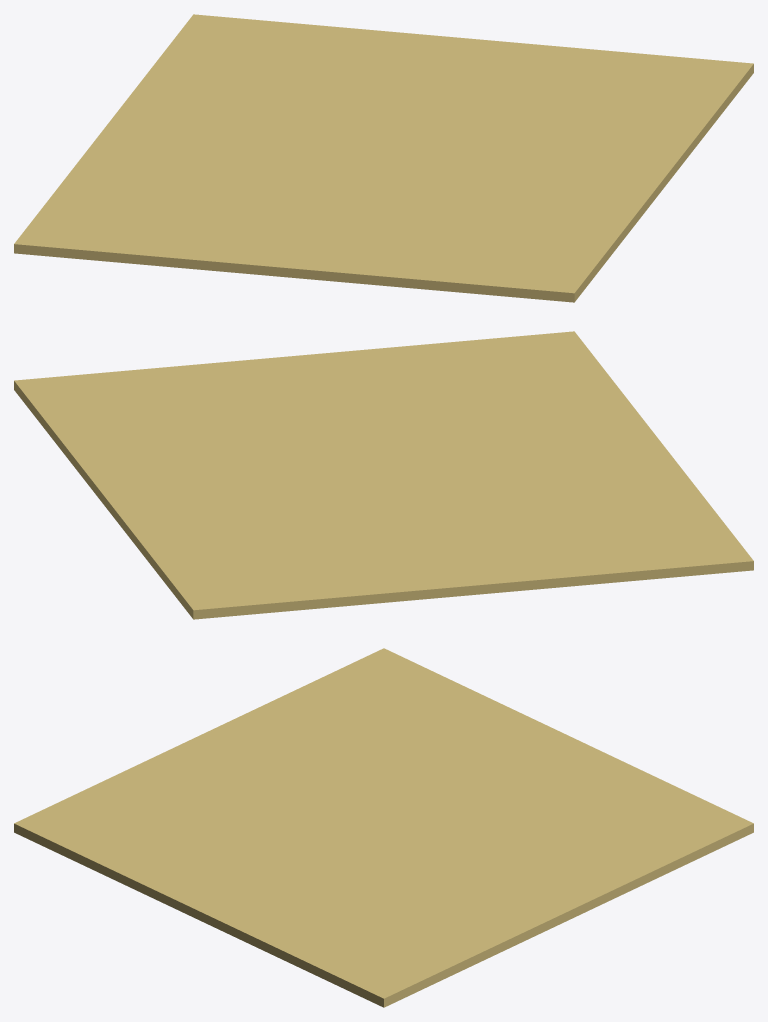
File: Burger new (2).glb
The picture shows the model from 3 angles, top to bottom: view 1: azimuth 30°, elevation 25°; view 2: azimuth 150°, elevation 25°; view 3: azimuth 270°, elevation 25°; orthographic projection. The views are drawn at different scales.
Visible parts, largest first — view 1: Mesh_Mesh_head_geo.001_lambert2SG.001; view 2: Mesh_Mesh_head_geo.001_lambert2SG.001; view 3: Mesh_Mesh_head_geo.001_lambert2SG.001.
Boxes of the visible parts, x1,y1,x2,y2 form: Mesh_Mesh_head_geo.001_lambert2SG.001: (14, 14, 753, 302); Mesh_Mesh_head_geo.001_lambert2SG.001: (14, 331, 753, 619); Mesh_Mesh_head_geo.001_lambert2SG.001: (14, 648, 753, 1007).
Size of the model in its own units: 62.78 by 0.756 by 56.
